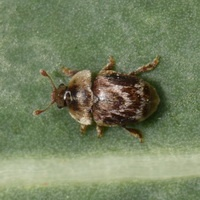insect: (33, 56, 159, 142)
